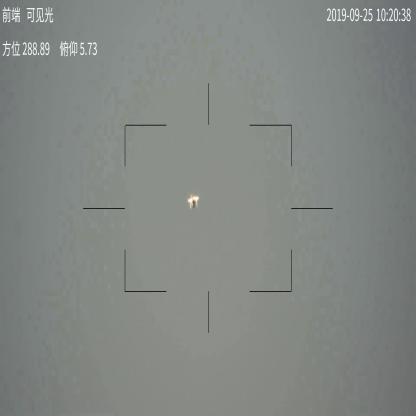uav: (186, 194, 200, 211)
